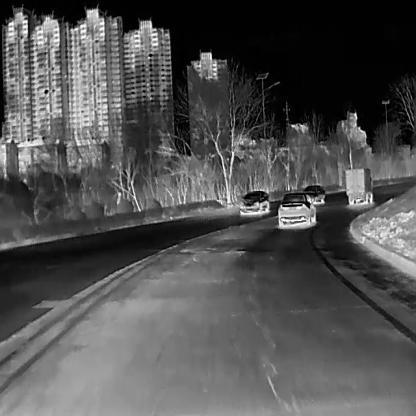car: (278, 191, 317, 224), (344, 166, 373, 204), (240, 189, 269, 215), (302, 184, 325, 202)
